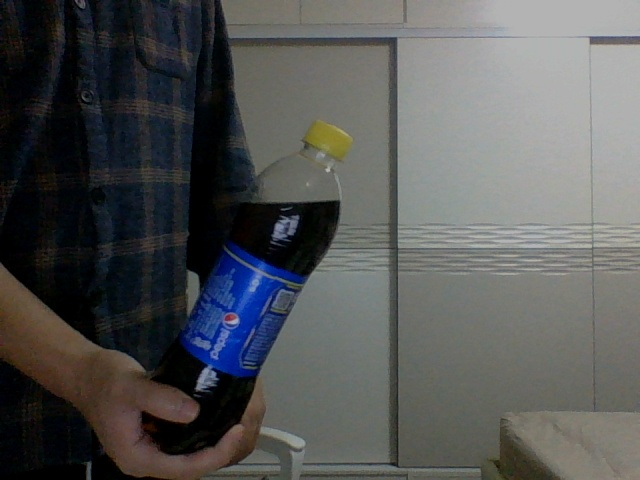Cola: (146, 120, 352, 452)
